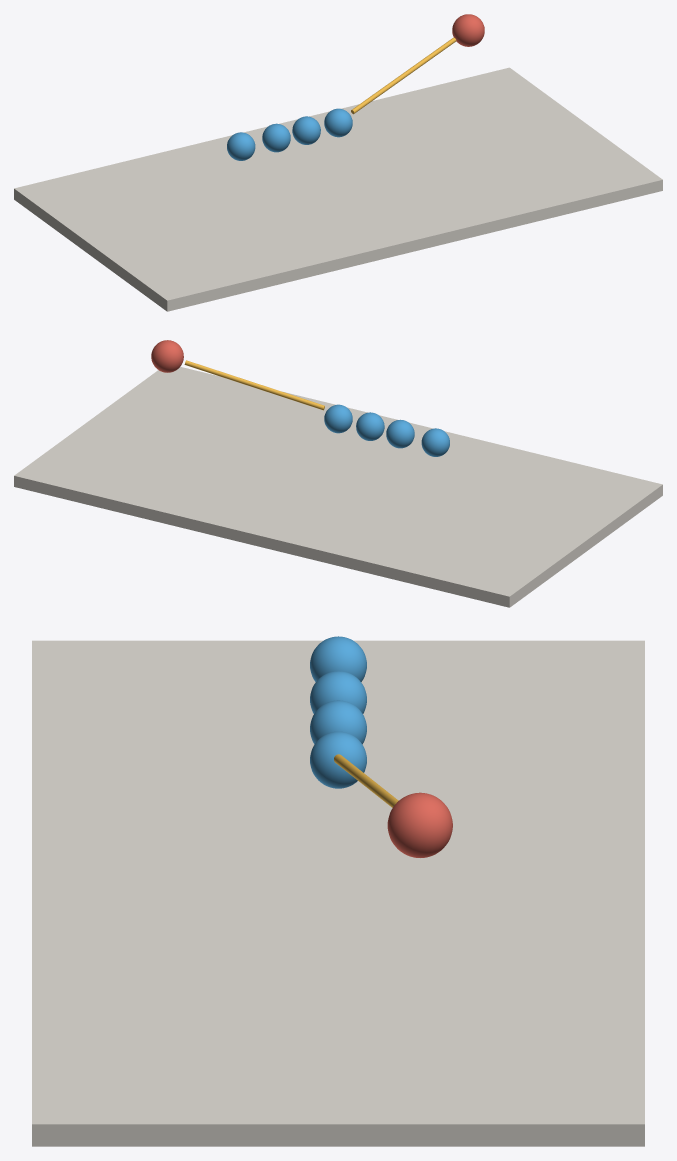
Rendered from math-data-outlier.glb.
3 views of the same model, one above another, from view 1: azimuth 30°, elevation 25°; view 2: azimuth 150°, elevation 25°; view 3: azimuth 270°, elevation 25° (orthographic). The views are drawn at different scales.
Parts seen in each view (by area): view 1: manipulative-base, far-outlier-point, outlier-gap, cluster-point-3, cluster-point-4, cluster-point-1, cluster-point-2; view 2: manipulative-base, far-outlier-point, outlier-gap, cluster-point-3, cluster-point-2, cluster-point-4, cluster-point-1; view 3: manipulative-base, far-outlier-point, cluster-point-4, cluster-point-1, cluster-point-3, cluster-point-2, outlier-gap.
Part boxes in pixels (x1,y1,x2,y2): manipulative-base: [14, 67, 662, 311]; far-outlier-point: [452, 14, 484, 46]; outlier-gap: [351, 37, 456, 114]; cluster-point-3: [292, 116, 320, 144]; cluster-point-4: [324, 108, 352, 137]; cluster-point-1: [227, 132, 255, 160]; cluster-point-2: [262, 123, 290, 152]; manipulative-base: [14, 367, 662, 607]; far-outlier-point: [151, 340, 183, 372]; outlier-gap: [184, 360, 324, 410]; cluster-point-3: [356, 412, 384, 440]; cluster-point-2: [386, 419, 414, 448]; cluster-point-4: [324, 404, 352, 433]; cluster-point-1: [421, 428, 449, 456]; manipulative-base: [32, 640, 644, 1146]; far-outlier-point: [387, 792, 452, 857]; cluster-point-4: [310, 731, 366, 788]; cluster-point-1: [310, 636, 366, 681]; cluster-point-3: [310, 700, 366, 744]; cluster-point-2: [310, 671, 366, 713]; outlier-gap: [334, 754, 398, 807].
Size of what is drawn, in the model's own units: 2.8 by 0.69 by 1.5.
